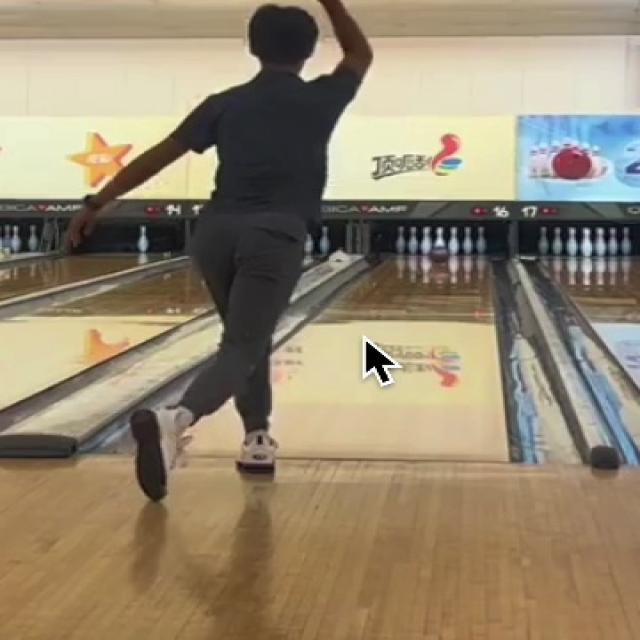alley: (272, 252, 507, 458)
balls: (427, 248, 453, 266)
bottle: (396, 224, 485, 253)
